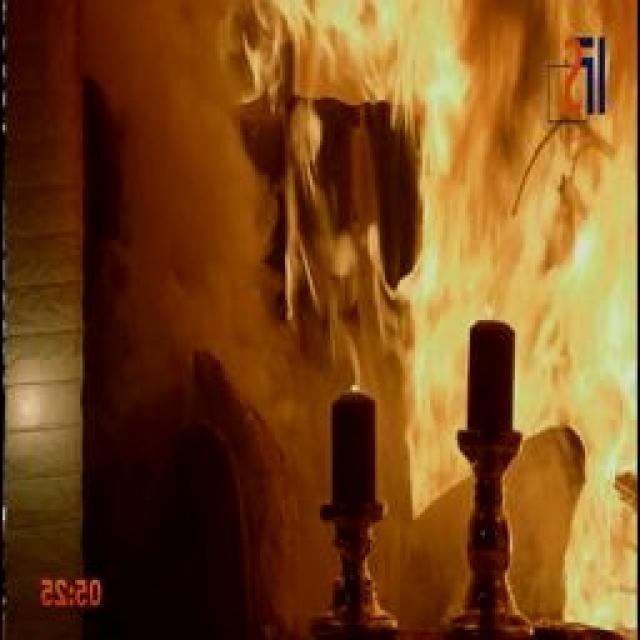fire: (340, 0, 635, 630)
